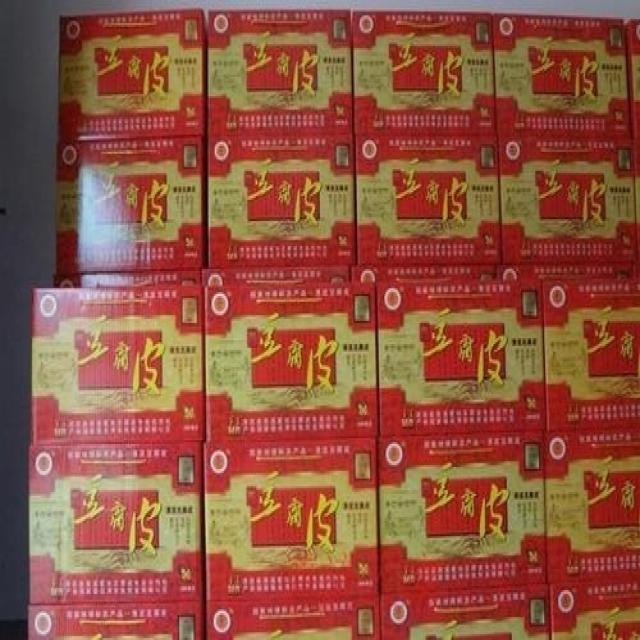box: (204, 436, 380, 602), (204, 281, 378, 442), (28, 442, 202, 603), (31, 286, 204, 444), (378, 431, 545, 592), (375, 279, 545, 434), (56, 138, 206, 275), (59, 6, 206, 140), (206, 133, 355, 265), (356, 133, 500, 263), (207, 8, 353, 135), (353, 10, 497, 135), (499, 133, 637, 261), (492, 13, 630, 131), (541, 279, 640, 431), (545, 427, 640, 580), (380, 582, 549, 640), (206, 596, 381, 640), (28, 600, 204, 640), (550, 578, 640, 640), (201, 265, 349, 284), (351, 263, 497, 281), (498, 261, 639, 279), (55, 269, 201, 286), (627, 17, 640, 142), (635, 144, 640, 258)
